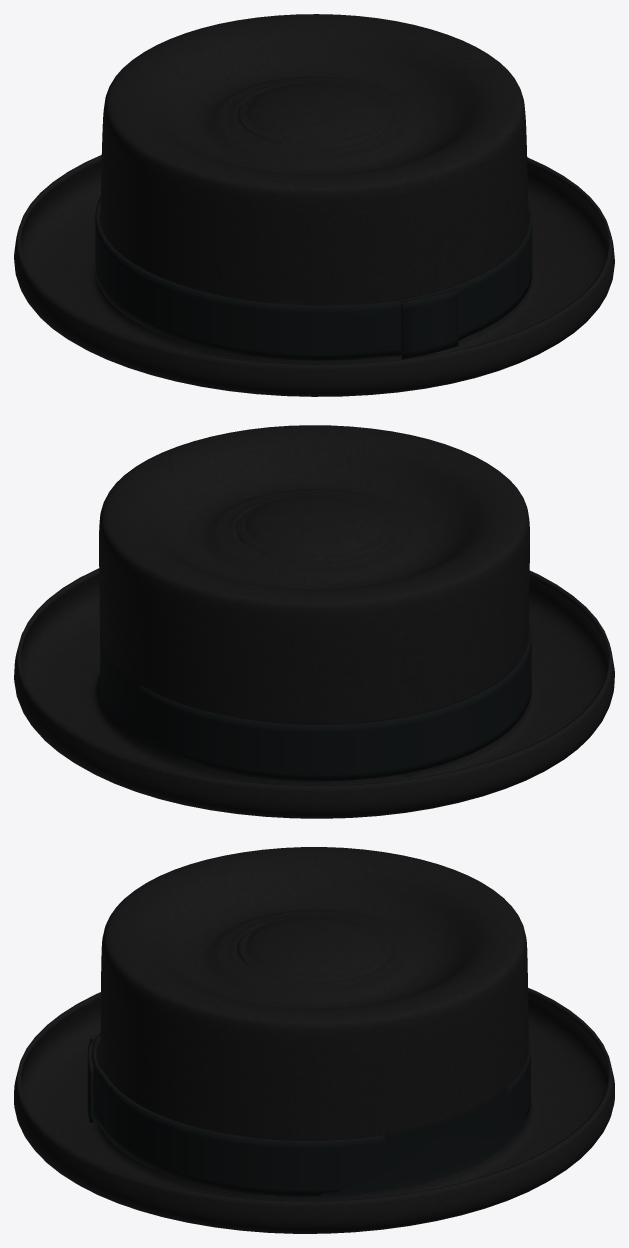
File: New Hat.glb
3 views of the same model, one above another, from view 1: azimuth 30°, elevation 25°; view 2: azimuth 150°, elevation 25°; view 3: azimuth 270°, elevation 25° (orthographic). The views are drawn at different scales.
Parts seen in each view (by area): view 1: Cylinder; view 2: Cylinder; view 3: Cylinder.
Boxes of the visible parts, x1=… form: Cylinder: x1=14, y1=14, x2=614, y2=396; Cylinder: x1=14, y1=425, x2=614, y2=818; Cylinder: x1=14, y1=847, x2=614, y2=1233.
Size of the model in its own units: 0.2993 by 0.1019 by 0.2998.
Materials: 1 (1 with a texture image).
